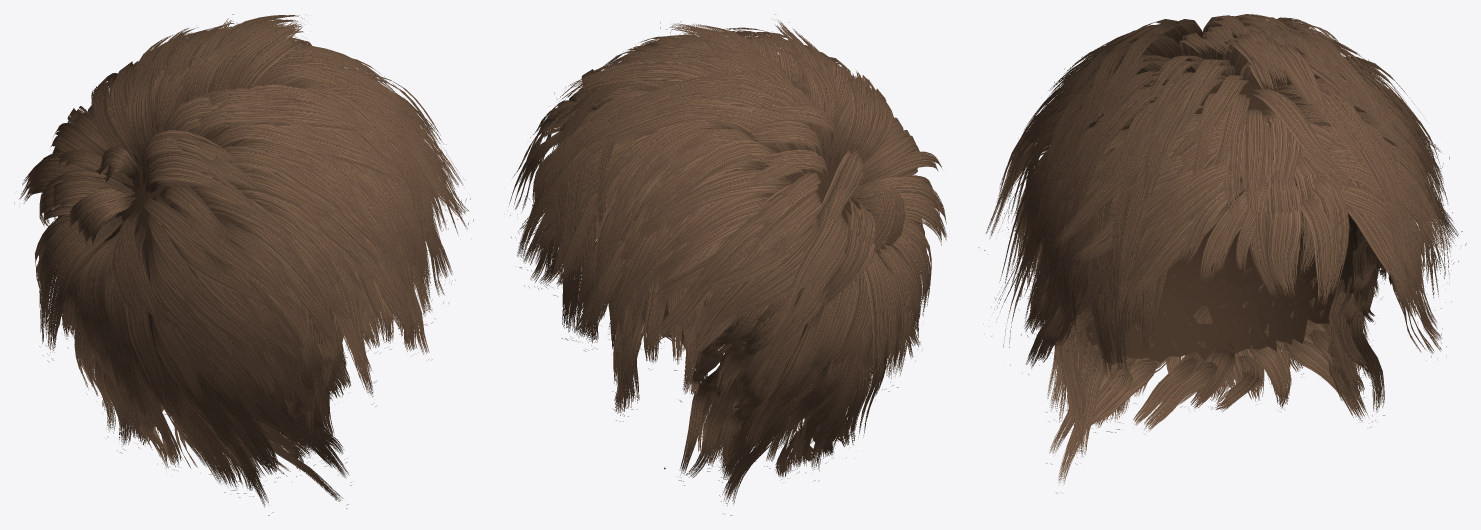
Rendered from hair-male-medium.glb.
3 views of the same model, side by side, from view 1: azimuth 30°, elevation 25°; view 2: azimuth 150°, elevation 25°; view 3: azimuth 270°, elevation 25° (orthographic). The views are drawn at different scales.
Parts seen in each view (by area): view 1: Hair_medium_cards, Hair_medium_cap; view 2: Hair_medium_cards, Hair_medium_cap; view 3: Hair_medium_cards, Hair_medium_cap.
Part boxes in pixels (x1,y1,x2,y2): Hair_medium_cards: (14,14,473,515); Hair_medium_cap: (103,85,330,387); Hair_medium_cards: (509,14,946,515); Hair_medium_cap: (592,83,881,394); Hair_medium_cards: (978,14,1466,493); Hair_medium_cap: (1081,77,1392,364).
Size of the model in its own units: 0.2553 by 0.2798 by 0.2624.
Materials: 3 (2 with a texture image).
